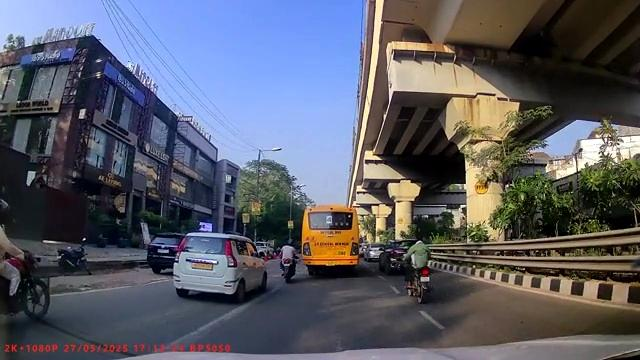motorcycle_with_helmet: (280, 237, 298, 283)
motorcycle_without_helmet: (400, 231, 434, 304)
